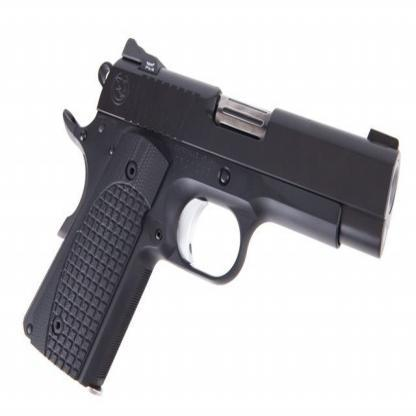Pistol: (31, 20, 406, 412)
